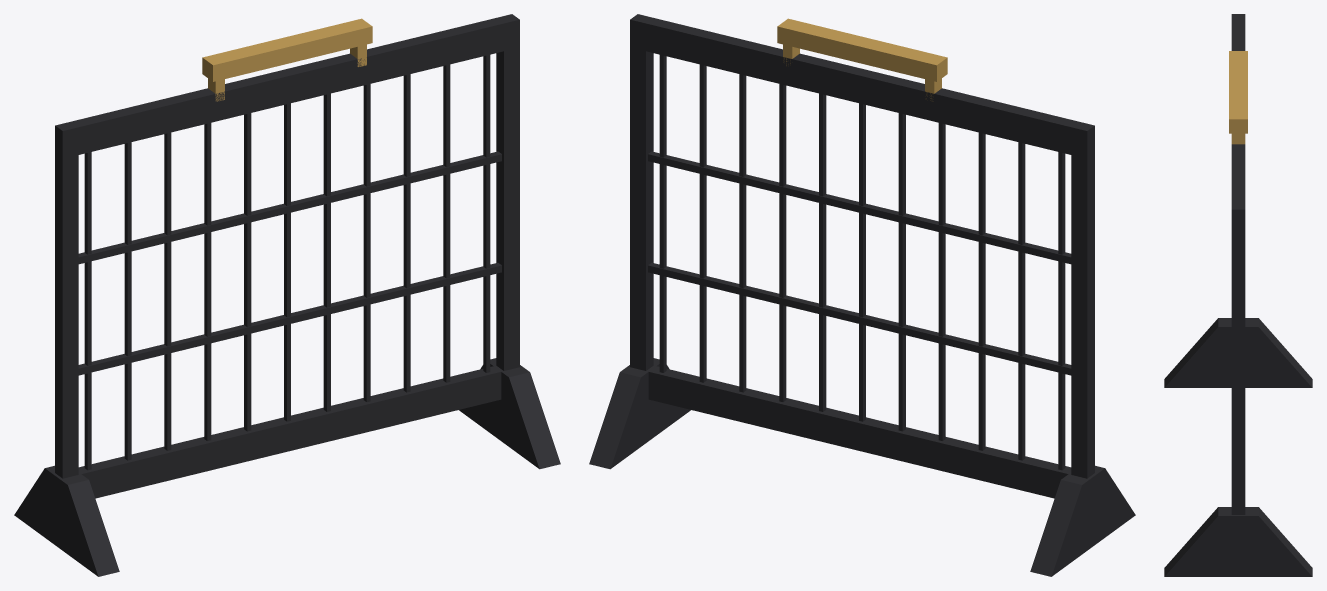
Rendered from FN_Screen_Fire.glb.
3 views of the same model, side by side, from view 1: azimuth 30°, elevation 25°; view 2: azimuth 150°, elevation 25°; view 3: azimuth 270°, elevation 25° (orthographic). The views are drawn at different scales.
Visible parts, largest first — view 1: FN_Screen_Fire; view 2: FN_Screen_Fire; view 3: FN_Screen_Fire.
Boxes of the visible parts, left/top/right/bottom form: FN_Screen_Fire: left=14, top=14, right=560, bottom=576; FN_Screen_Fire: left=589, top=14, right=1135, bottom=576; FN_Screen_Fire: left=1164, top=14, right=1312, bottom=576.
Size of the model in its own units: 0.696 by 0.644 by 0.22.
Materials: 1 (1 with a texture image).
